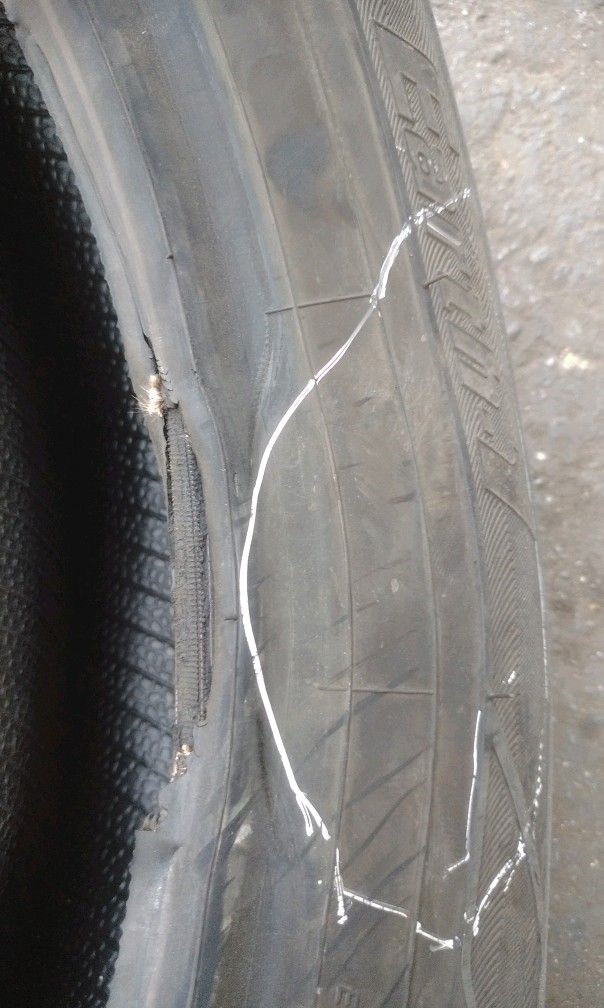bead_damage: (111, 264, 240, 910)
